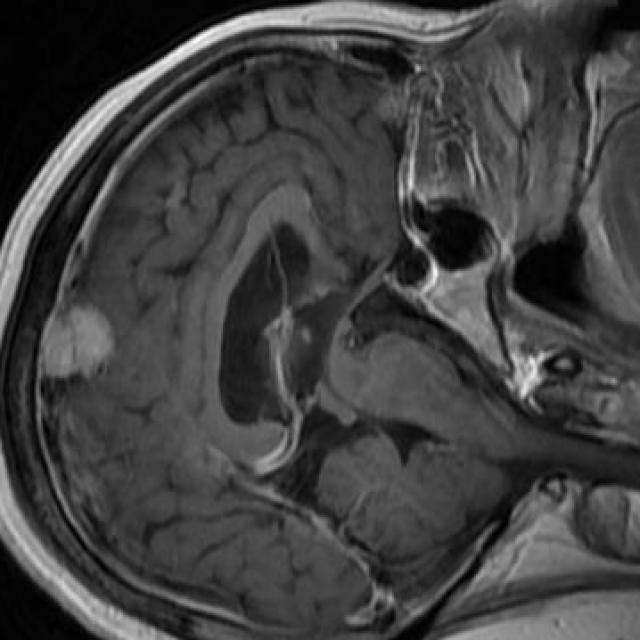meningioma: (43, 307, 114, 376)
